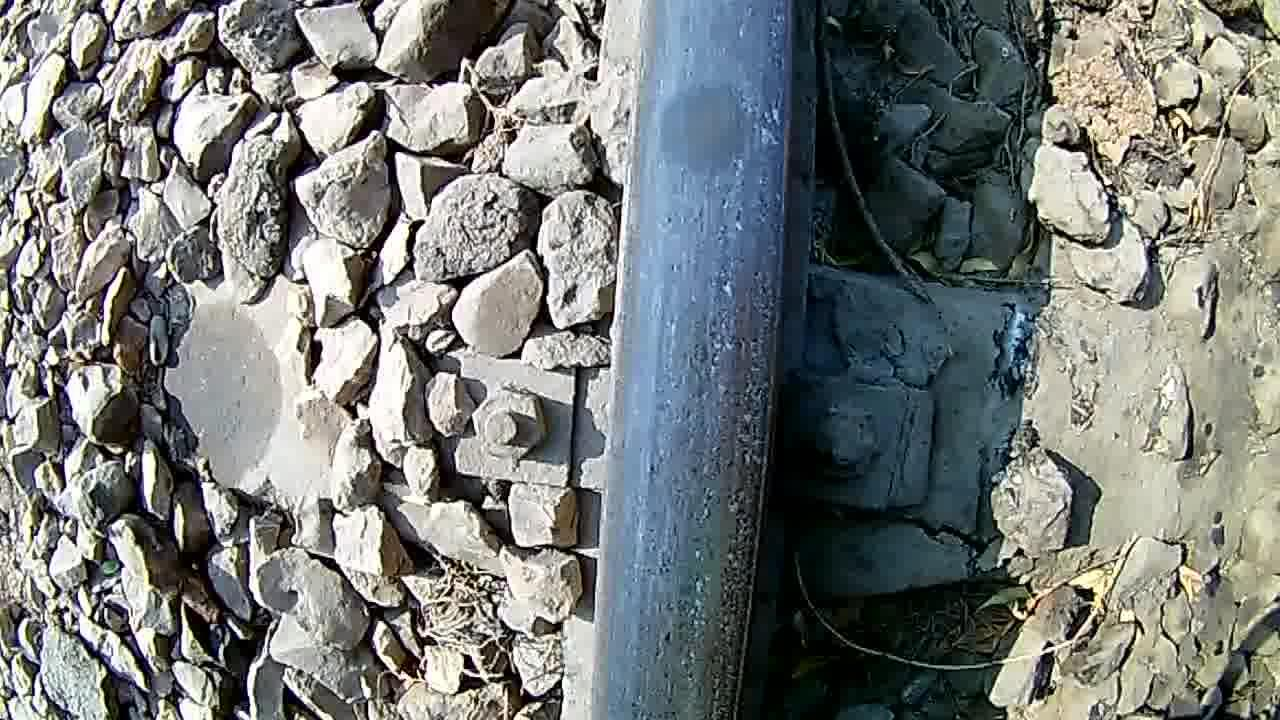bolt_missing: (616, 67, 787, 195)
